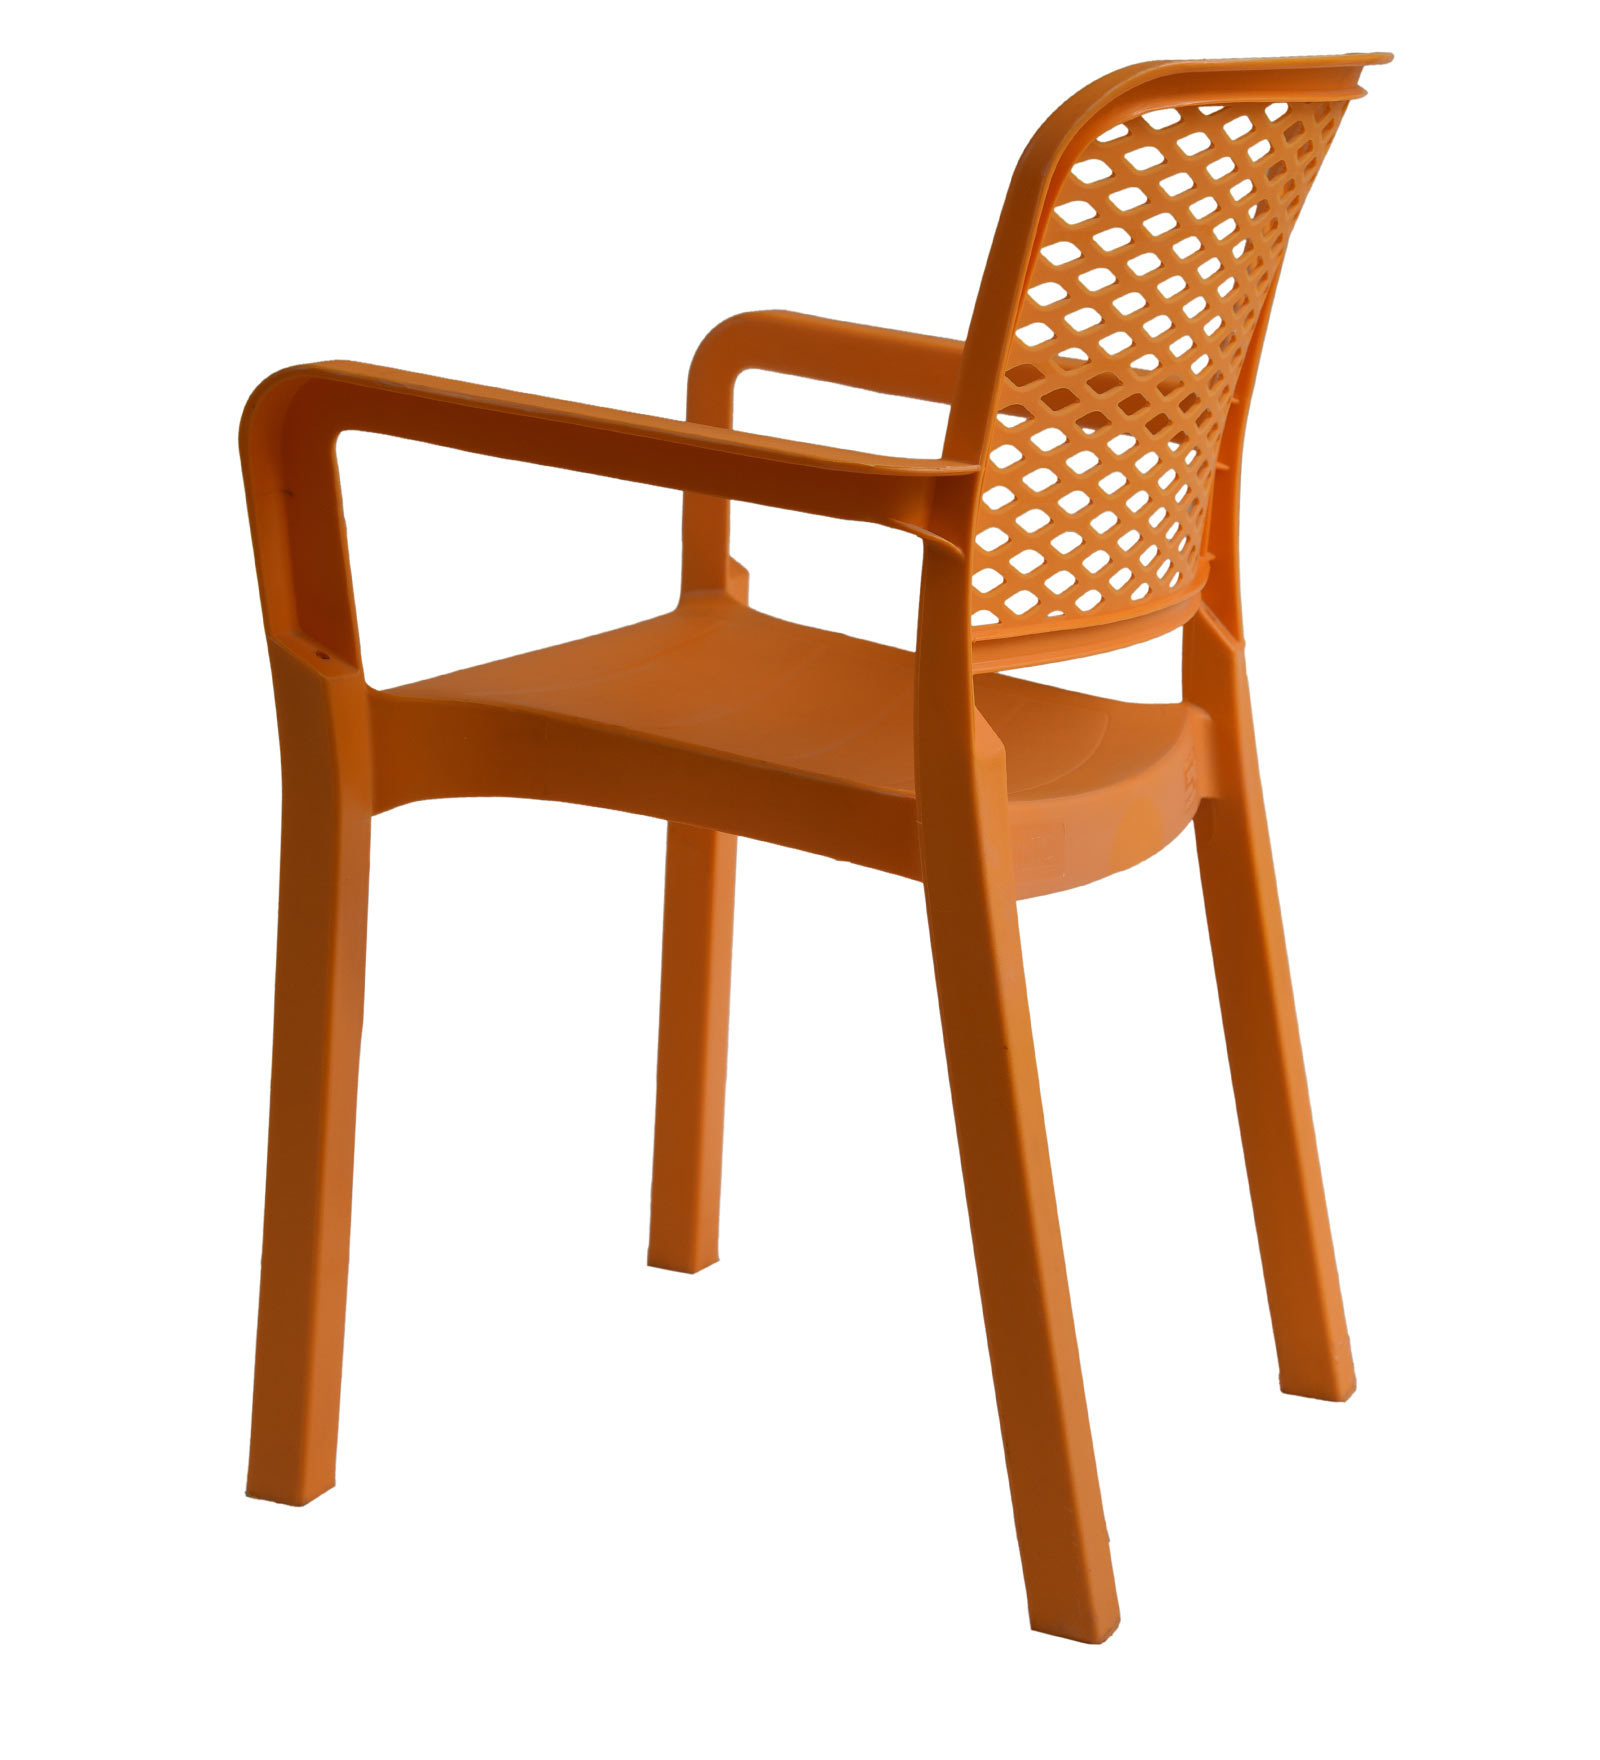Luxury Plastic Chair in Orange Colour by Italica Furniture: (225, 37, 1385, 1643)
